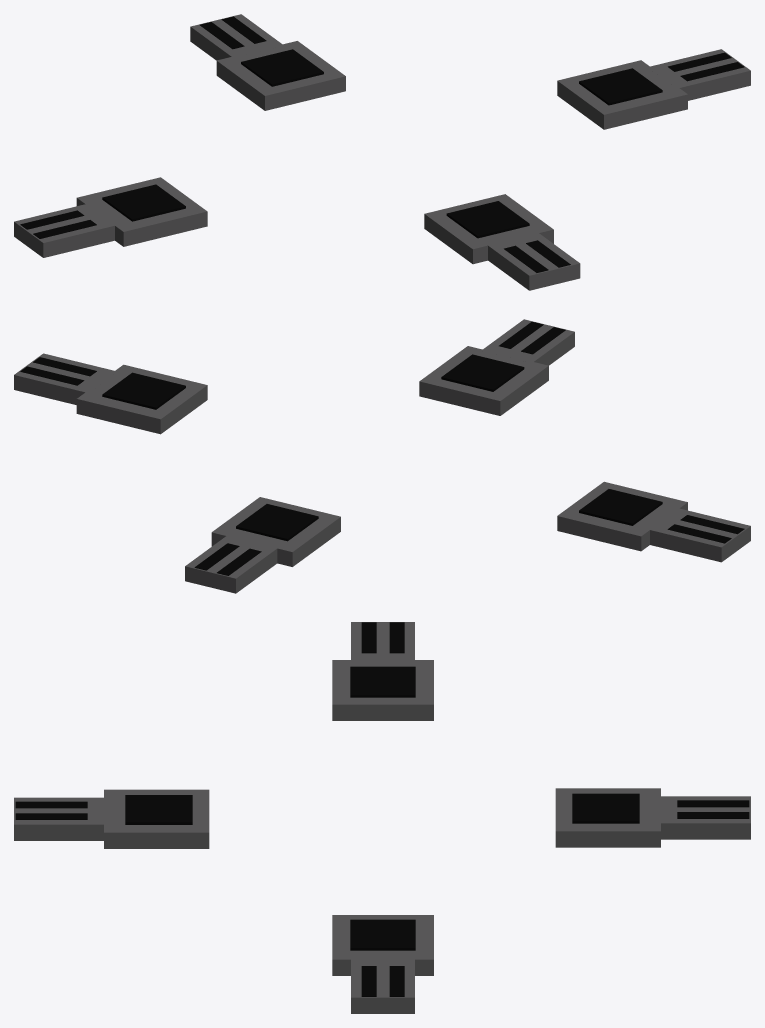
File: LeguLeteron-Press_Sensing_Sensor.fbx
3 renders of one model, top to bottom at view 1: azimuth 30°, elevation 25°; view 2: azimuth 150°, elevation 25°; view 3: azimuth 270°, elevation 25°, orthographic. The views are drawn at different scales.
Visible parts, largest first — view 1: node_id4690, node_id4527, node_id4640, node_id4608, node_id4638, node_id4606, node_id4688, node_id4528, node_id4629, node_id4679, node_id4597, node_id4578; view 2: node_id4690, node_id4608, node_id4640, node_id4527, node_id4638, node_id4528, node_id4688, node_id4606, node_id4629, node_id4679, node_id4597, node_id4578; view 3: node_id4527, node_id4608, node_id4640, node_id4606, node_id4690, node_id4528, node_id4688, node_id4629, node_id4679, node_id4578, node_id4597, node_id4638.
Boxes of the visible parts, x1,y1,x2,y2 form: node_id4690: [557, 60, 687, 129]; node_id4527: [216, 41, 345, 110]; node_id4640: [76, 177, 207, 246]; node_id4608: [424, 194, 553, 264]; node_id4638: [14, 203, 117, 257]; node_id4606: [487, 232, 580, 290]; node_id4688: [647, 49, 750, 100]; node_id4528: [190, 14, 283, 60]; node_id4629: [102, 184, 185, 221]; node_id4679: [579, 68, 662, 105]; node_id4597: [446, 201, 529, 238]; node_id4578: [241, 49, 323, 86]; node_id4690: [76, 364, 207, 434]; node_id4608: [419, 346, 548, 415]; node_id4640: [557, 481, 687, 551]; node_id4527: [211, 497, 340, 566]; node_id4638: [647, 508, 750, 562]; node_id4528: [185, 535, 278, 593]; node_id4688: [14, 353, 117, 404]; node_id4606: [481, 319, 574, 365]; node_id4629: [579, 489, 662, 525]; node_id4679: [102, 372, 185, 409]; node_id4597: [441, 354, 524, 391]; node_id4578: [236, 504, 318, 541]; node_id4527: [555, 788, 660, 847]; node_id4608: [104, 789, 209, 848]; node_id4640: [332, 660, 433, 720]; node_id4606: [14, 797, 107, 840]; node_id4690: [332, 915, 433, 975]; node_id4528: [657, 796, 750, 839]; node_id4688: [351, 958, 414, 1013]; node_id4629: [350, 666, 415, 697]; node_id4679: [350, 919, 415, 950]; node_id4578: [572, 793, 639, 823]; node_id4597: [125, 795, 192, 824]; node_id4638: [351, 622, 414, 661].
Bounding box in the file's own units: 0.8367 × 0.0212 × 0.6943.
7 materials, 7 textured.
